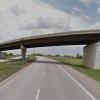Bridge: (6, 27, 95, 54)
